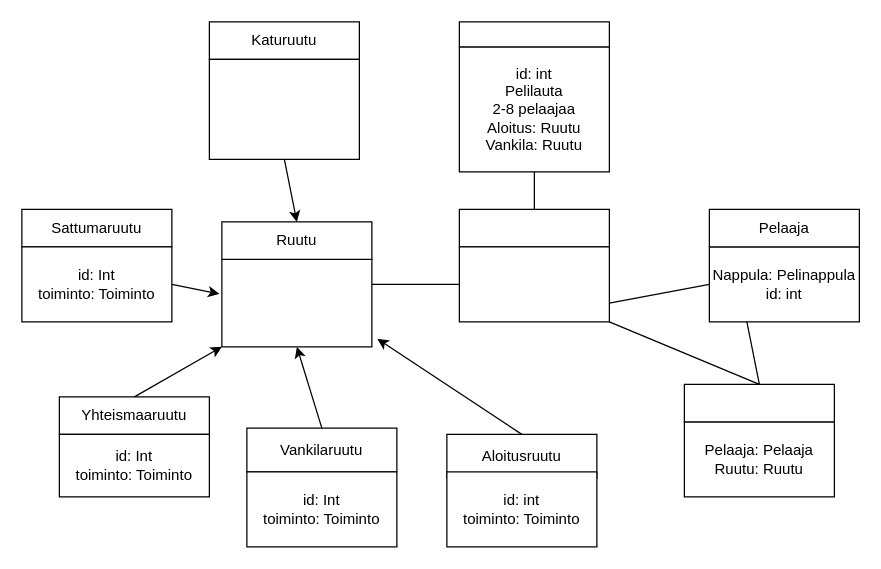
Image size: 881x569. Some labels were removed from this diagram. Here are the shapes that lost their labels. From the top down, the centre of each, then its label:
At (533,34): "Monopoli".
At (283,108): "id: int Omistaja: pelaaja Kadunnimi. String Talot: Toiminto Hotelli: Toiminto".
At (533,227): "Pelilauta".
At (296,302): "id: int Ruutu: seuraava".
At (533,284): "id: int 40 ruutua".
At (758,402): "Pelinappula".
